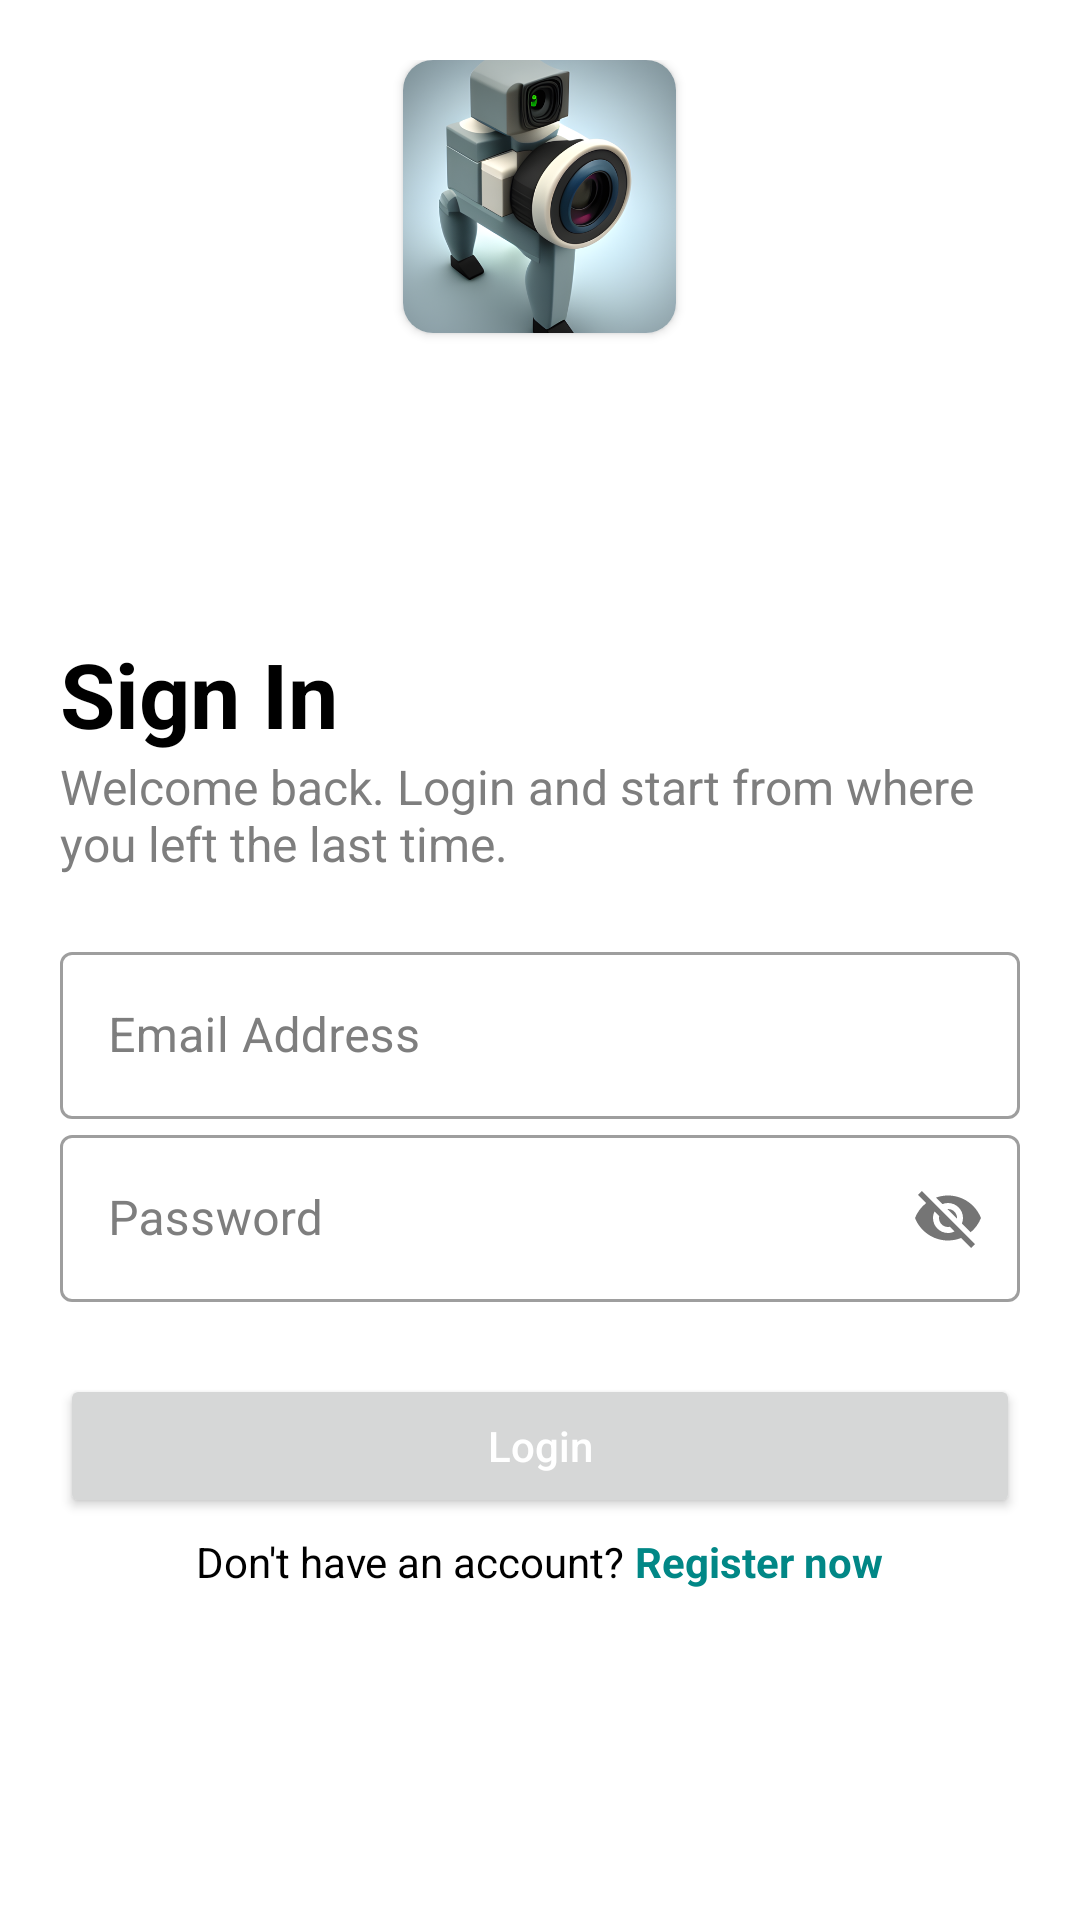

Named icons in this screenshot (1080px×1920px) and their bounding boxes, {"left": x1, "top": y1, "right": x2, "bottom": y2}:
application: {"left": 403, "top": 60, "right": 676, "bottom": 333}
